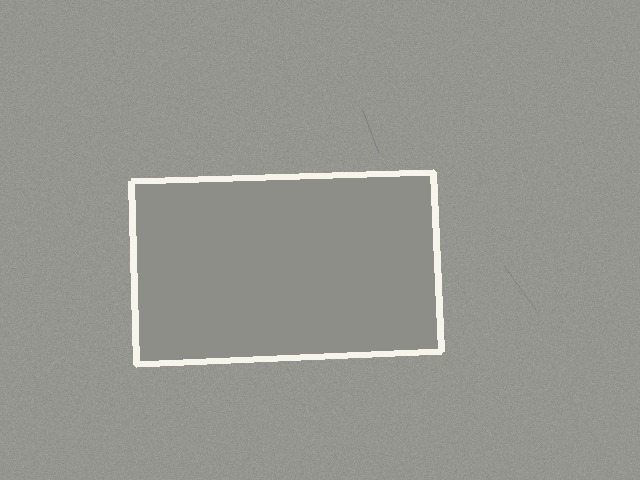parking_area: (131, 172, 441, 364)
